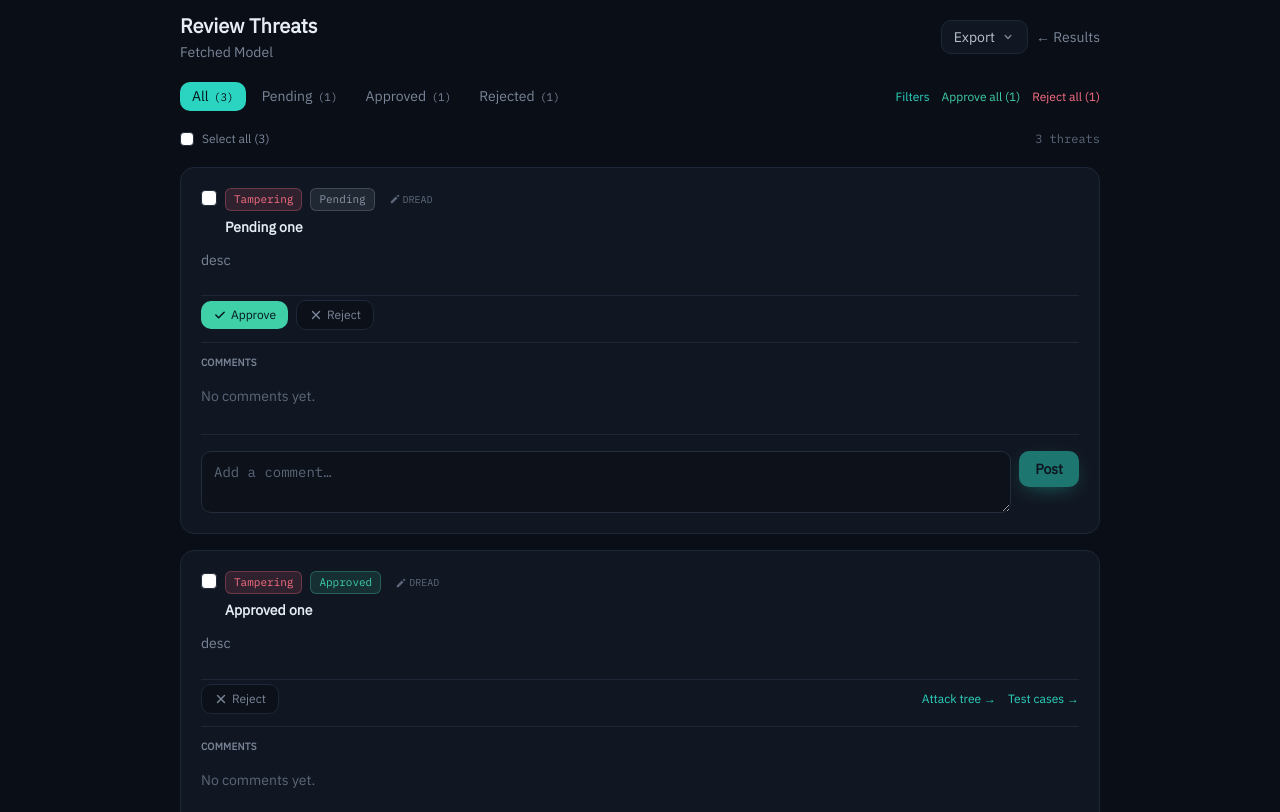
it: Review — filtering › filters to only approved threats
The image size is (1280, 812).
Expected: the heading "Pending one" is shown, 225,218 -> 303,236
Click the button "approved (1)": x=408, y=96 354,82 -> 463,111
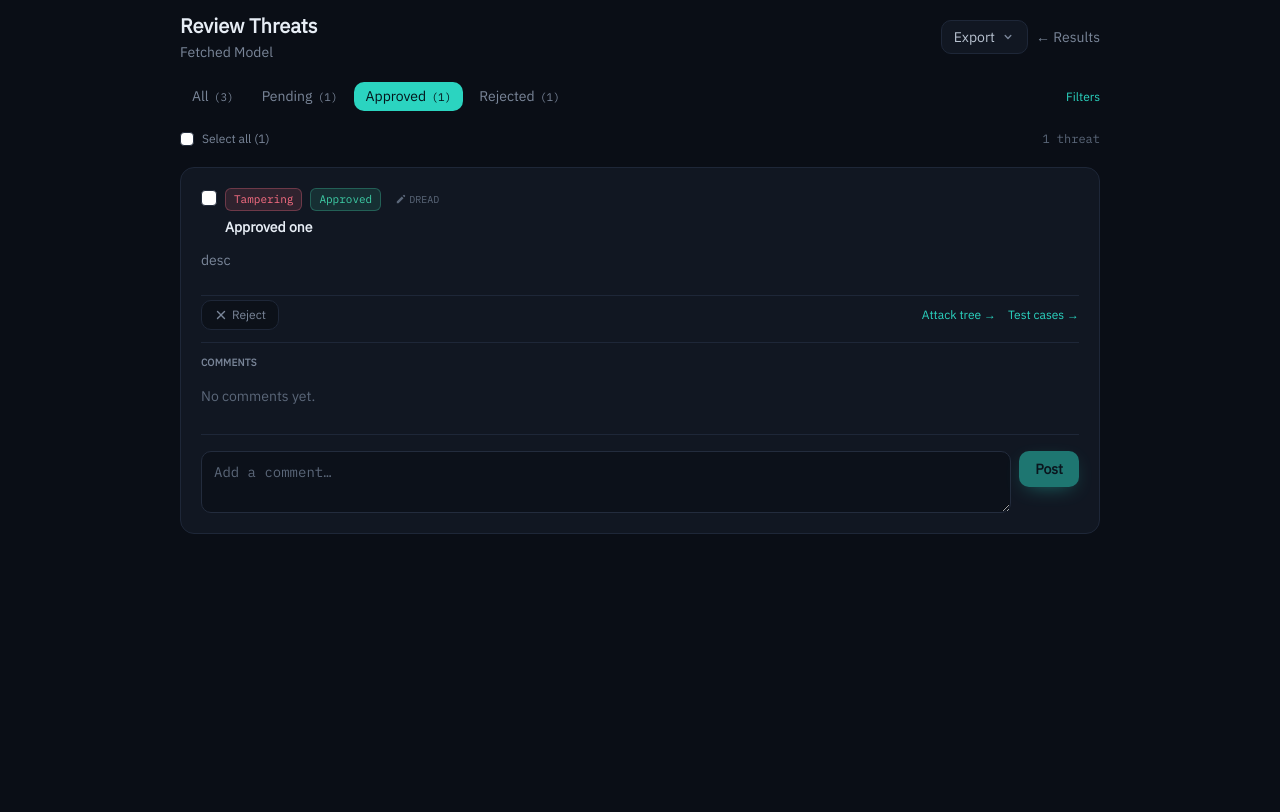
Expected: the heading "Approved one" is shown, 225,218 -> 312,236
Now the heading "Pending one" is gone
